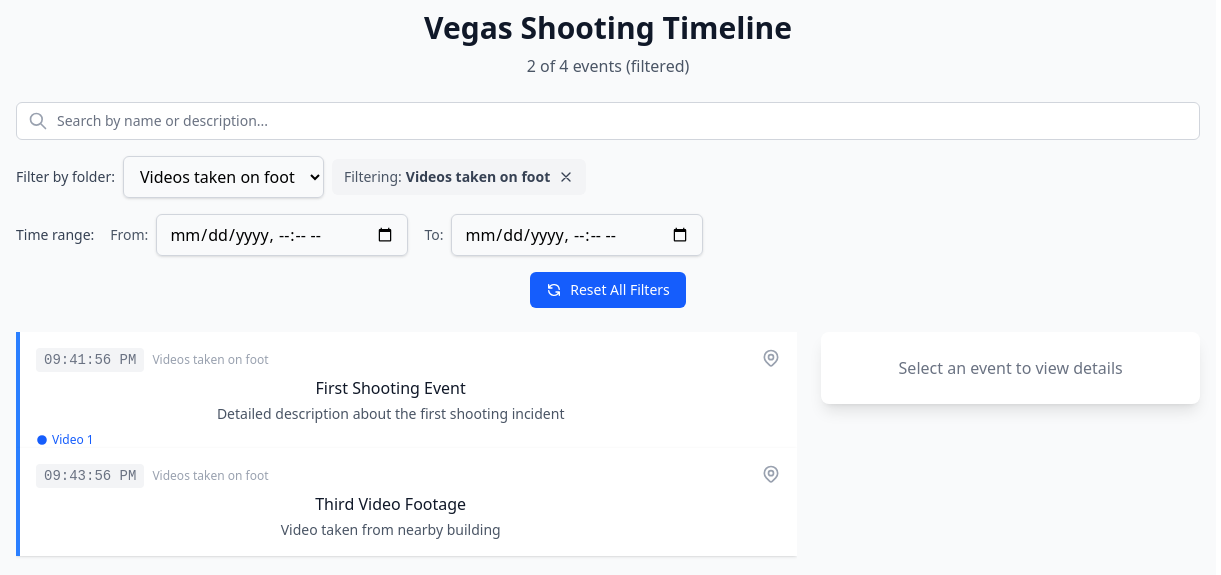
Test case: Timeline - Search Filter with Debounce › combines search filter with folder filter
Check: the heading "First Shooting Event" is shown, box [316, 377, 466, 399]
Check: the heading "Third Video Footage" is shown, box [315, 493, 466, 515]
# Now apply search filter
Type "shooting" into the field with placeholder "Search by name or description..." at (608, 121), box [16, 102, 1200, 140]
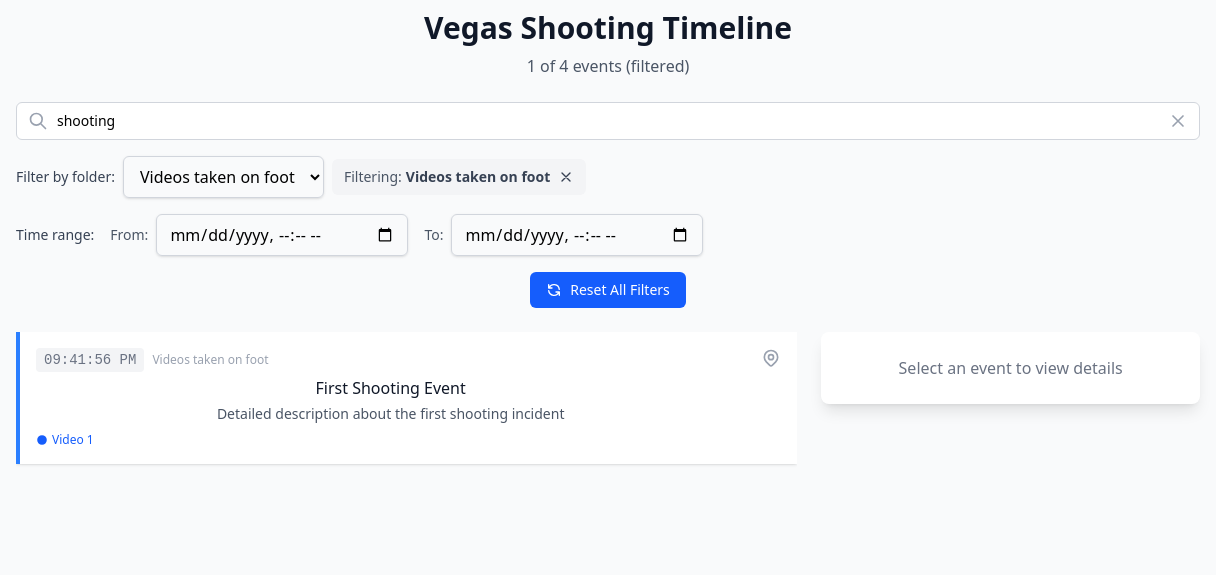
Check: the heading "First Shooting Event" is shown, box [316, 377, 466, 399]
Check: the heading "Third Video Footage" is gone
